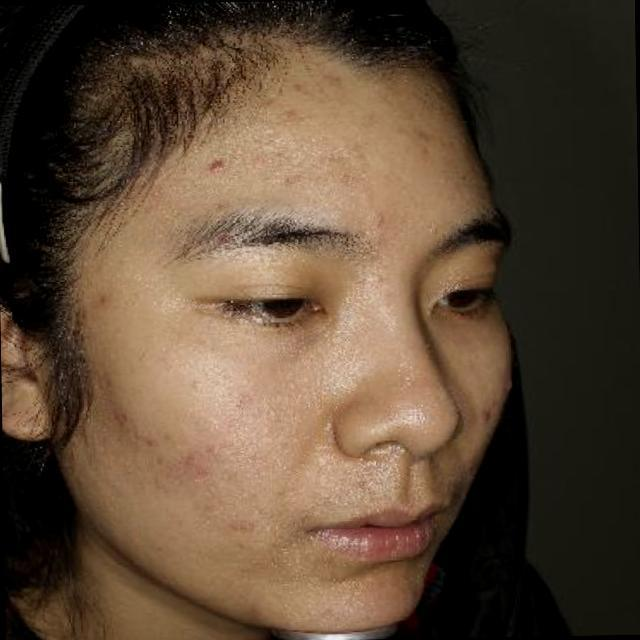nodules: (199, 151, 236, 181), (374, 209, 391, 232), (129, 422, 148, 442)
